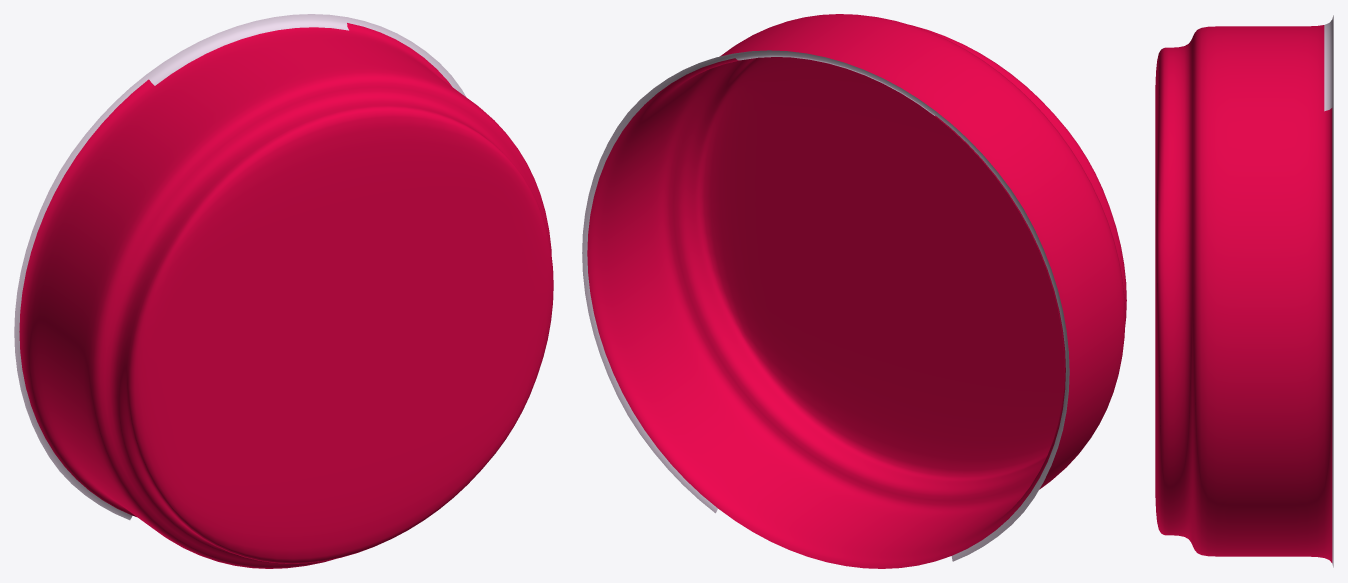
File: boton.fbx
3 renders of one model, left to right at view 1: azimuth 30°, elevation 25°; view 2: azimuth 150°, elevation 25°; view 3: azimuth 270°, elevation 25°, orthographic.
Parts seen in each view (by area): view 1: Cube.003; view 2: Cube.003; view 3: Cube.003.
Part boxes in pixels (box(x1,y1,x2,y2)): Cube.003: box(14, 14, 553, 568); Cube.003: box(582, 14, 1126, 568); Cube.003: box(1155, 15, 1333, 567).
Bounding box in the file's own units: 34.23 × 33.92 × 11.03.
